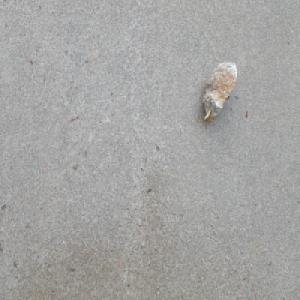Rock: (200, 59, 237, 123)
